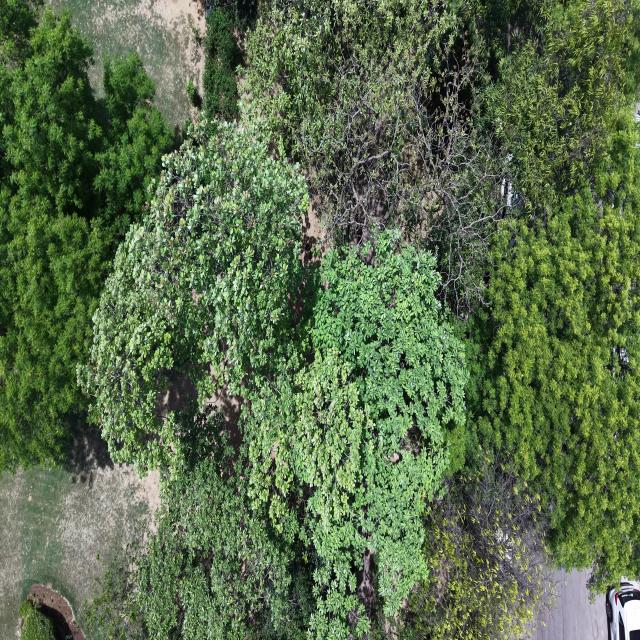DRY_AREA: (0, 439, 158, 639), (0, 447, 157, 639), (0, 447, 157, 638), (47, 0, 205, 127), (532, 571, 607, 639), (27, 584, 85, 639)
VEGETATION_TREE: (0, 0, 639, 639), (246, 2, 638, 581), (81, 122, 467, 637), (81, 123, 467, 638), (243, 0, 638, 315), (467, 2, 639, 587), (243, 235, 467, 638), (0, 0, 173, 469), (468, 115, 639, 584), (80, 121, 308, 470), (244, 0, 504, 306), (88, 406, 315, 639), (129, 408, 314, 639), (485, 0, 639, 223), (136, 441, 309, 639), (401, 454, 553, 639), (94, 53, 174, 241), (202, 0, 257, 120), (203, 7, 241, 119), (20, 600, 55, 639), (185, 80, 201, 107)
